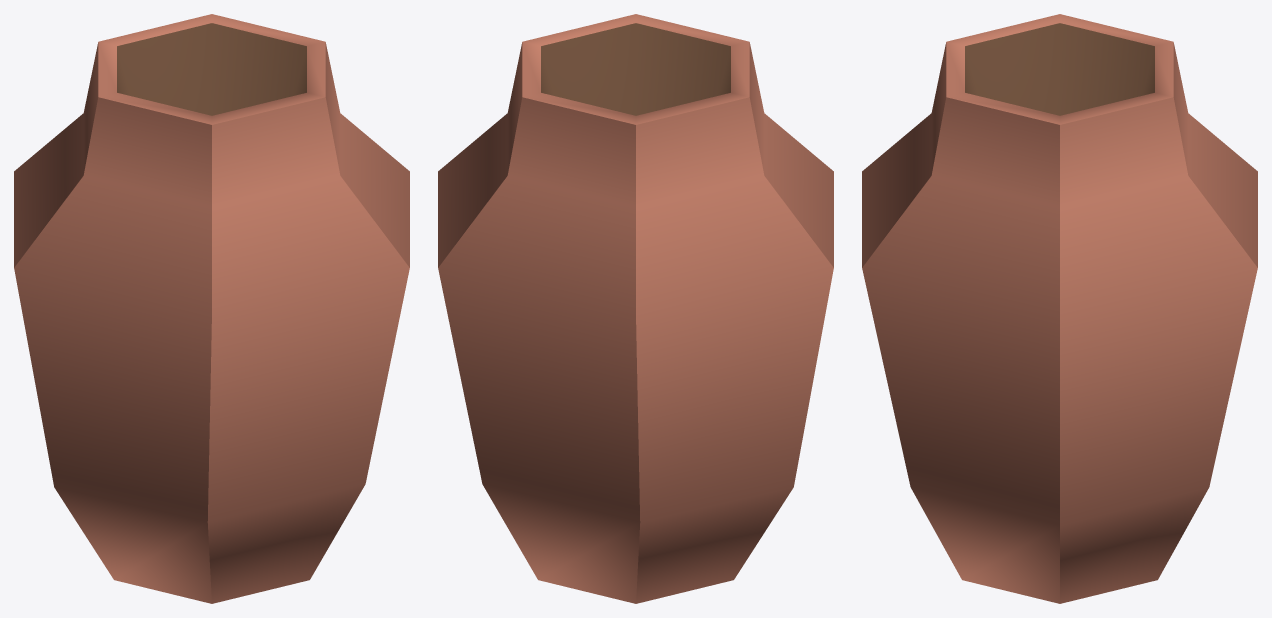
The model's file is jarro_5_pacote.glb.
The picture shows the model from 3 angles, left to right: view 1: azimuth 30°, elevation 25°; view 2: azimuth 150°, elevation 25°; view 3: azimuth 270°, elevation 25°; orthographic projection.
Parts seen in each view (by area): view 1: jarro_5_pacote; view 2: jarro_5_pacote; view 3: jarro_5_pacote.
Boxes of the visible parts, x1,y1,x2,y2 form: jarro_5_pacote: [14, 14, 409, 603]; jarro_5_pacote: [438, 14, 833, 603]; jarro_5_pacote: [862, 14, 1257, 603].
Size of the model in its own units: 0.3821 by 0.449 by 0.3309.
1 material, 1 textured.
